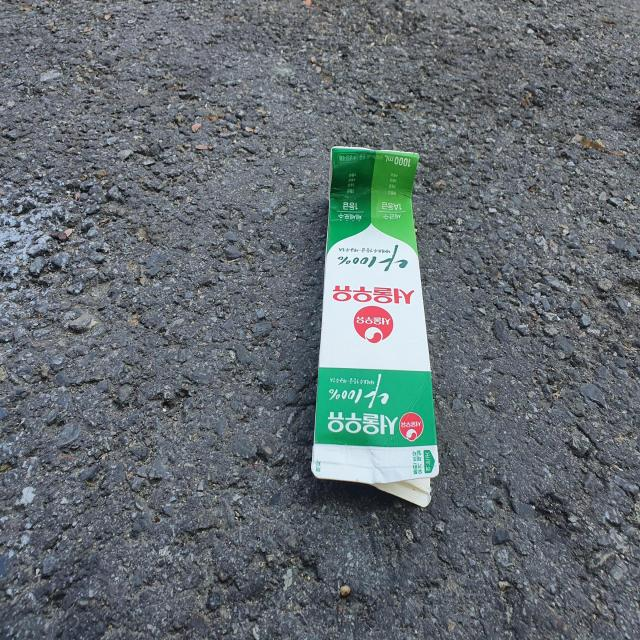paperpack: (311, 146, 439, 507)
